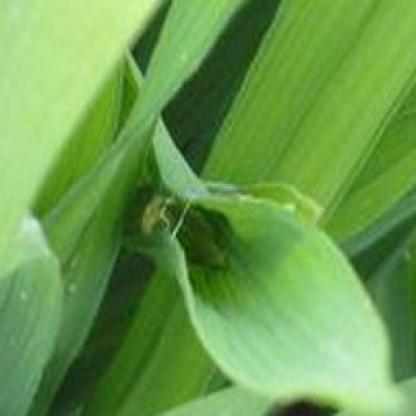leaf-folder: (137, 177, 229, 286)
